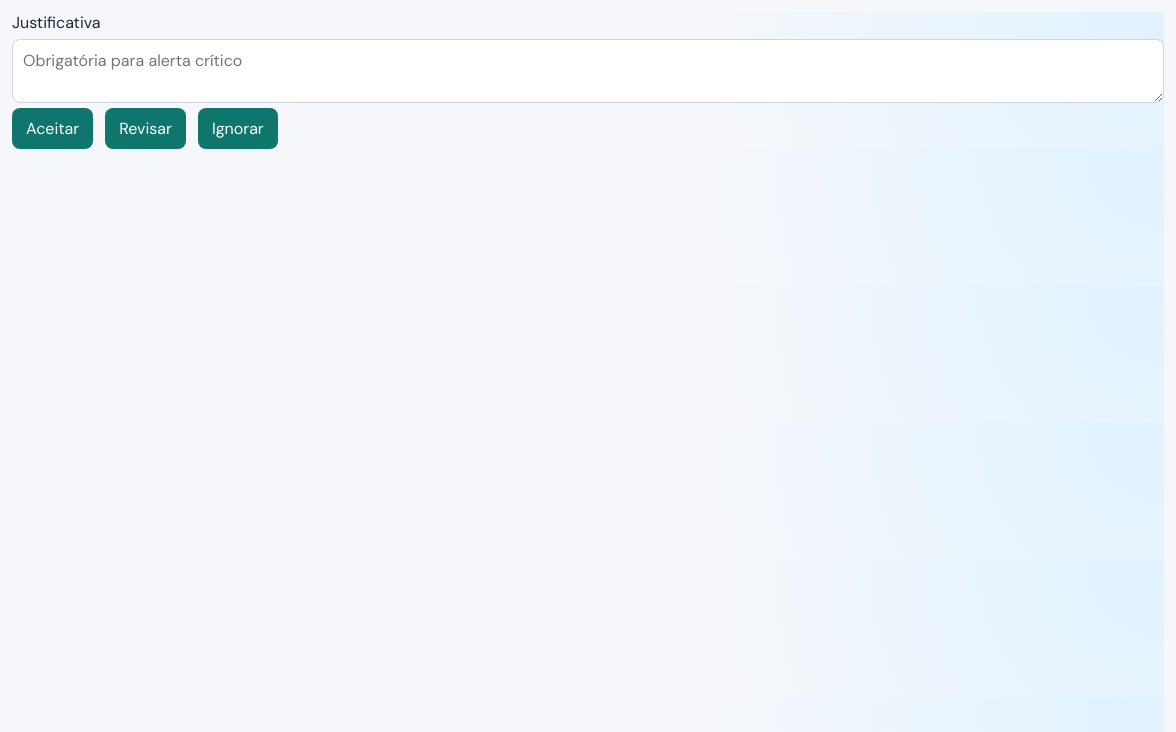
Test: AlertDecisionForm › exige justificativa para alerta crítico
Click the button "Aceitar".
click(53, 128)  # box left=12, top=108, right=93, bottom=149
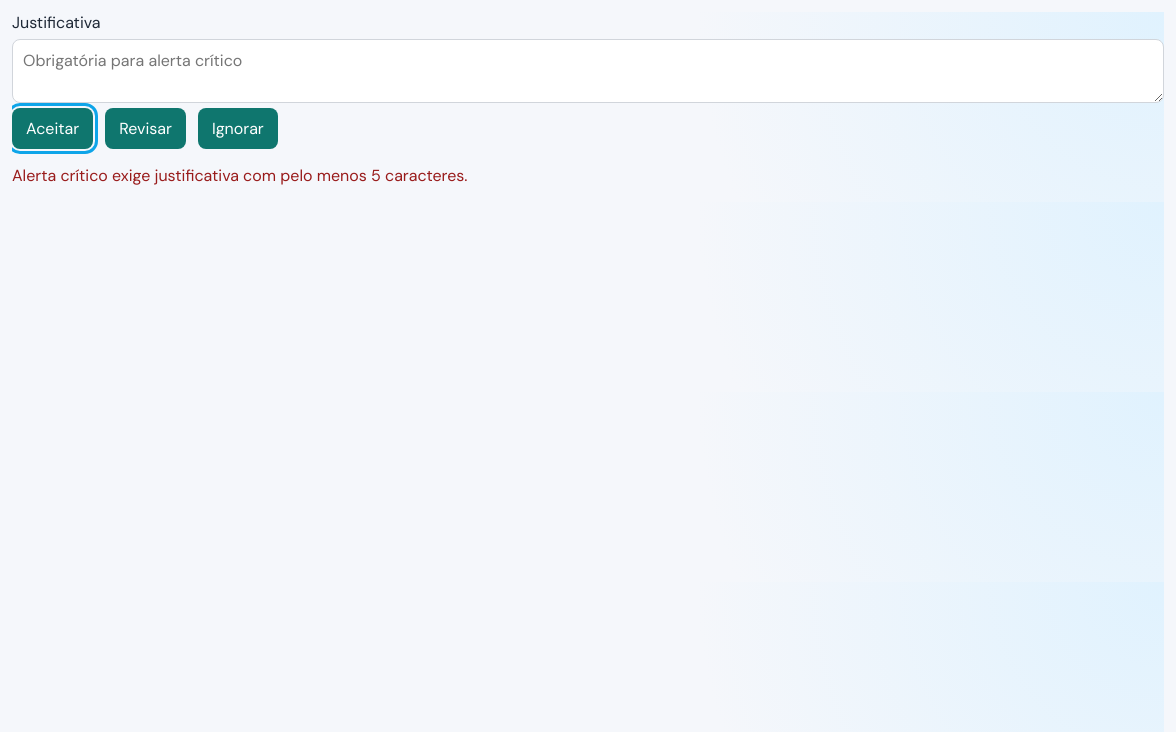
Expected: the text "Alerta crítico exige justificativa" is shown, left=12, top=165, right=468, bottom=186
